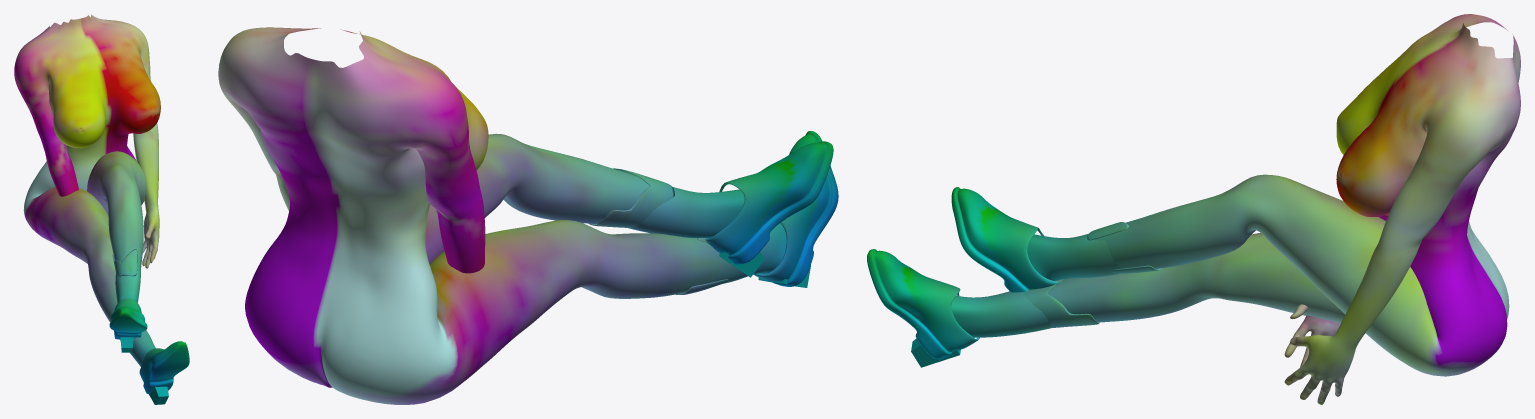
Rendered from lounge-legs-cross.glb.
3 renders of one model, left to right at view 1: azimuth 30°, elevation 25°; view 2: azimuth 150°, elevation 25°; view 3: azimuth 270°, elevation 25°, orthographic. The views are drawn at different scales.
Parts seen in each view (by area): view 1: Human_baked, Human.shoes03_baked, shaft_baked, heel.R_baked, heel.L_baked; view 2: Human_baked, Human.shoes03_baked, shaft_baked; view 3: Human_baked, Human.shoes03_baked, shaft_baked.
Boxes of the visible parts, x1,y1,x2,y2 form: Human_baked: [14, 14, 160, 322]; Human.shoes03_baked: [109, 266, 189, 394]; shaft_baked: [112, 249, 137, 340]; heel.R_baked: [149, 386, 168, 404]; heel.L_baked: [120, 337, 133, 352]; Human_baked: [218, 27, 721, 404]; Human.shoes03_baked: [628, 131, 838, 286]; shaft_baked: [589, 168, 728, 294]; Human_baked: [1048, 14, 1520, 404]; Human.shoes03_baked: [867, 187, 1120, 359]; shaft_baked: [1024, 222, 1162, 327].
Bounding box in the file's own units: 0.5829 × 0.7673 × 1.11.
